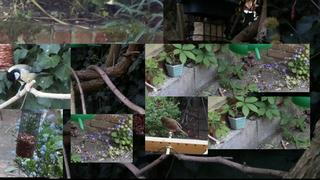great tit: (6, 64, 51, 98)
robin: (159, 116, 188, 136)
